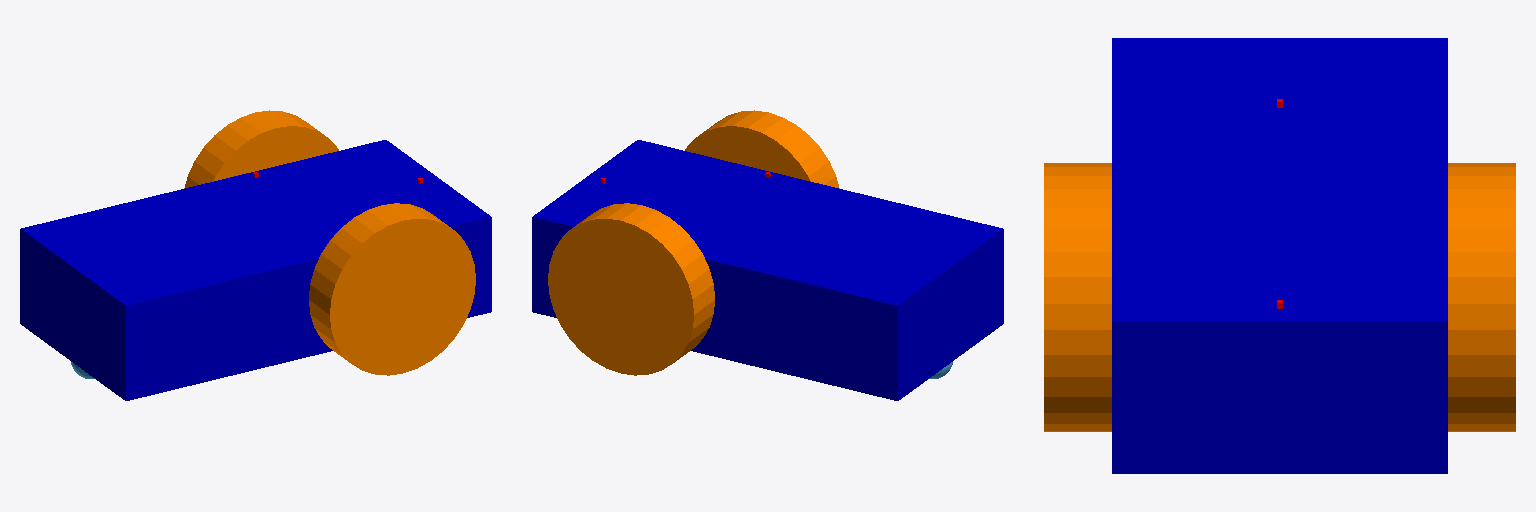
URDF robot description (gopigo3):
<?xml version='1.0'?>
<robot name="gopigo3">

<!-- Materials -->
  <material name="blue">
    <color rgba="0 0 0.8 1"/>
  </material>

  <material name="white">
    <color rgba="1 1 1 1"/>
  </material>

  <material name="red">
    <color rgba="1 0 0 1"/>
  </material>

  <material name="green">
    <color rgba="0 1 0 1"/>
  </material>

  <material name="yellow">
    <color rgba="1 1 0 1"/>
  </material>

  <material name="orange">
    <color rgba="1 0.54 0 1"/>
  </material>
  <!-- Dummy link without inertia is needed -->
  <link name="base_footprint"/>
  <joint name="base_link_joint" type="fixed">
    <origin rpy="0 0 0" xyz="0 0 0.05"/>
    <parent link="base_footprint"/>
    <child link="base_link"/>
  </joint>
<!-- Base Link -->
  <link name="base_link">
    <visual>
      <origin xyz="0 0 0" rpy="0 0 0" />
      <geometry>
          <box size="0.5 0.25 0.125"/>
      </geometry>
      <material name="blue"/>
    </visual>
    <collision>
      <origin xyz="0 0 0" rpy="0 0 0" />
      <geometry>
          <box size="0.5 0.25 0.125"/>
      </geometry>
    </collision>
    <inertial>
      <origin xyz="0 0 0" rpy="0 0 0" />
      <mass value="5"/>
      <inertia ixx="0.13" ixy="0.0" ixz="0.0" iyy="0.21" iyz="0.0" izz="0.13"/>
    </inertial>
    <!-- Caster attachment -->
    <visual name="caster_visual">
      <origin xyz="-0.225 0 -0.0625" rpy="0 0 0" />
      <geometry>
        <sphere radius="0.025" />
      </geometry>
    </visual>
    <collision name="caster_collision">
      <origin xyz="-0.225 0 -0.0625" rpy="0 0 0" />
      <geometry>
        <sphere radius="0.025" />
      </geometry>
    </collision>
    <inertial name="caster_inertia">
      <origin xyz="-0.225 0 -0.0625" rpy="0 0 0" />
      <mass value="0.15"/>
      <inertia ixx="0.0001" ixy="0.0" ixz="0.0" iyy="0.0001" iyz="0.0" izz="0.0001"/>
    </inertial>
  </link>
<!-- Right Wheel -->
  <link name="right_wheel">
    <visual>
      <origin xyz="0 0 0" rpy="1.570795 0 0" />
      <geometry>
          <cylinder length="0.05" radius="0.1" />
      </geometry>
      <material name="orange"/>
    </visual>
    <!-- Right Wheel collision, mass and inertia -->
    <collision>
      <origin xyz="0 0 0" rpy="1.570795 0 0" />
      <geometry>
          <cylinder length="0.05" radius="0.1" />
      </geometry>
    </collision>
    <inertial>
      <origin xyz="0 0 0" rpy="1.570795 0 0" />
      <mass value="0.15"/>
      <inertia ixx="0.01" ixy="0.0" ixz="0.0" iyy="0.005" iyz="0.0" izz="0.005"/>
    </inertial>
  </link>
<!-- Right Wheel JOINT base_link -->
  <joint name="joint_right_wheel" type="continuous">
    <parent link="base_link"/>
    <child link="right_wheel"/>
    <origin xyz="0.1 -0.15 0.0125" rpy="0 0 0" /> 
    <axis xyz="0 1 0" />
  </joint>
<!-- Left Wheel JOINT base_link -->
  <joint name="joint_left_wheel" type="continuous">
    <parent link="base_link"/>
    <child link="left_wheel"/>
    <origin xyz="0.1 0.15 0.0125" rpy="0 0 0" /> 
    <axis xyz="0 1 0"/>
  </joint>
<!-- Left Wheel -->
  <link name="left_wheel">
    <visual>
      <origin xyz="0 0 0" rpy="1.570795 0 0" />
      <geometry>
          <cylinder length="0.05" radius="0.1" />
      </geometry>
      <material name="orange"/>
    </visual>
    <!-- Left Wheel collision, mass and inertia -->
    <collision>
      <origin xyz="0 0 0" rpy="1.570795 0 0" />
      <geometry>
          <cylinder length="0.05" radius="0.1" />
      </geometry>
    </collision>
    <inertial>
      <origin xyz="0 0 0" rpy="1.570795 0 0" />
      <mass value="0.15"/>
      <inertia ixx="0.01" ixy="0.0" ixz="0.0" iyy="0.005" iyz="0.0" izz="0.005"/>
    </inertial>

  </link>
<!-- Distance Sensor -->
  <joint name="distance_sensor_joint" type="fixed">
    <axis xyz="0 1 0" />
    <origin rpy="0 0 0" xyz="0.225 0 0.065" />
    <parent link="base_link"/>
    <child link="distance_sensor"/>
  </joint>
  <link name="distance_sensor">
    <visual>
      <origin xyz="0 0 0" rpy="0 0 0"/>
      <geometry>
        <box size="0.005 0.005 0.005"/>
      </geometry>
      <material name="red"/>
    </visual>
  </link>
<!-- Distance Sensor solid JOINT base_link -->
  <joint name="distance_sensor_solid_joint" type="fixed">
    <axis xyz="0 1 0" />
    <origin xyz="0 0 0" rpy="0 0 0"/>
    <parent link="base_link"/>
    <child link="distance_sensor_solid"/>
  </joint>
<!-- Distance Sensor solid-->
  <link name="distance_sensor_solid">
    <collision>
      <origin xyz="0.225 0 0.0775" rpy="1.570795 0 1.570795" />
      <geometry>
        <box size="0.005 0.005 0.005"/>
      </geometry>
    </collision>

    <visual>
      <origin xyz="0.225 0 0.0755" rpy="1.570795 0 1.570795" />
      <geometry>
        <mesh filename="package://gopigo3_description/meshes/IR_Sensor_Sharp_GP2Y_solid.stl" scale="0.0025 0.0025 0.0025"/>
      </geometry>
      <material name="red"/>
    </visual>

    <inertial>
      <origin xyz="0.225 0 0.0755" rpy="1.570795 0 1.570795" />
      <mass value="1e-5" />
      <origin xyz="0 0 0" rpy="0 0 0"/>
      <inertia ixx="1e-6" ixy="0" ixz="0" iyy="1e-6" iyz="0" izz="1e-6" />
    </inertial>
  </link>
<!-- 2D Camera as a mesh of actual PiCamera -->
  <link name="camera">
    <visual>
      <origin xyz="0 0 0" rpy="0 1.570795 0" />
      <geometry>
        <mesh filename="package://gopigo3_description/meshes/piCamera.stl" scale="0.0025 0.0025 0.0025"/>
      </geometry>
      <material name="yellow"/>
    </visual>
    
    <collision>
      <origin xyz="0 0 0" rpy="0 -1.570795 0" />
      <geometry>
        <box size="0.075 0.075 0.025"/>
      </geometry>
    </collision>

    <inertial>
      <origin xyz="0 0 0" rpy="0 -1.570795 0" />
      <mass value="1e-3" />
      <inertia ixx="1e-6" ixy="0" ixz="0" iyy="1e-6" iyz="0" izz="1e-6" />
    </inertial>
  </link>
<!-- 2D Camera JOINT base_link -->
  <joint name="joint_camera" type="fixed">
    <axis xyz="0 0 1" />
    <origin xyz="0.25 0 0.025" rpy="0 0 0"/>
    <parent link="base_link"/>
    <child link="camera"/>
  </joint>

<!-- Laser Distance Sensor -->
  <link name="base_scan">
    <visual>
      <origin xyz="0 0 0" rpy="0 0 0" />
      <geometry>
        <box size="0.005 0.005 0.005"/>
      </geometry>
      <material name="red"/>
    </visual> 
  </link>
<!-- Laser Distance Sensor JOINT base_link -->
  <joint name="scan_joint" type="fixed">
    <parent link="base_link"/>
    <child link="base_scan"/>
    <origin xyz="0 0 0.125" rpy="0 0 3.14"/>
  </joint>
<!-- base_scan_solid JOINT base_link -->
  <joint name="scan_solid_joint" type="fixed">
    <parent link="base_scan"/>
    <child link="base_scan_solid"/>
    <origin xyz="0 0 0" rpy="0 0 0"/>
  </joint>
<!-- base_scan_solid -->
  <link name="base_scan_solid">
    <visual name="sensor_body">
      <origin xyz="0 0 0" rpy="0 0 0" />
      <geometry>
        <mesh filename="package://gopigo3_description/meshes/X4.stl" scale="0.002 0.002 0.002"/> 
      </geometry>
      <material name="yellow"/>
    </visual>

    <collision>
      <origin xyz="0 0 0" rpy="0 0 0"/>
      <geometry>
        <cylinder length="0.01575" radius="0.0275"/>
      </geometry>
    </collision>

    <inertial>
      <origin xyz="0 0 0" rpy="0 0 0"/>
      <mass value="0.057" />
      <inertia ixx="0.001" ixy="0.0" ixz="0.0"
               iyy="0.001" iyz="0.0"
               izz="0.001" />
    </inertial>
  </link>

<!-- GAZEBO MATERIAL TAGS (colors for sensors under <sensor> tags) -->
  <gazebo reference="base_link">
    <material>Gazebo/Blue</material>
    <pose>0 0 1.5 0 0 0</pose>
  </gazebo>

  <gazebo reference="right_wheel">
    <material>Gazebo/White</material>
  </gazebo>

  <gazebo reference="left_wheel">
    <material>Gazebo/White</material>
  </gazebo>

<!-- Differential Drive Controller -->
  <!-- https://answers.ros.org/question/236122/diffdrive-odometry-source-is-missing -->
  <gazebo>
    <plugin filename="libgazebo_ros_diff_drive.so" name="differential_drive_controller">
      <alwaysOn>true</alwaysOn>
      <updateRate>20</updateRate>
      <leftJoint>joint_left_wheel</leftJoint>
      <rightJoint>joint_right_wheel</rightJoint>
      <wheelSeparation>0.6</wheelSeparation>
      <wheelDiameter>0.3</wheelDiameter>
      <torque>0.1</torque>
      <commandTopic>cmd_vel</commandTopic>
      <odometryTopic>odom</odometryTopic>
      <odometryFrame>odom</odometryFrame>
      <robotBaseFrame>base_link</robotBaseFrame>
      <legacyMode>false</legacyMode>
      <publishTf>1</publishTf>
      <rosDebugLevel>na</rosDebugLevel>
      <publishWheelTF>false</publishWheelTF>
      <publishOdomTF>true</publishOdomTF>
      <publishWheelJointState>false</publishWheelJointState>
      <wheelAcceleration>0</wheelAcceleration>
      <wheelTorque>5</wheelTorque>
    </plugin>
  </gazebo>
<!-- Distance Sensor controller -->
  <gazebo reference="distance_sensor">        
    <sensor type="ray" name="laser_distance">
      <pose>0 0 0 0 0 0</pose>
      <visualize>true</visualize>
      <update_rate>10</update_rate>
      <ray>
         <scan>
            <horizontal>
               <samples>10</samples>
               <resolution>1</resolution> 
               <min_angle>-0.01</min_angle>
               <max_angle>0.01</max_angle>
            </horizontal>
            <vertical>
               <samples>10</samples>
               <resolution>1</resolution> 
               <min_angle>-0.01</min_angle>
               <max_angle>0.01</max_angle> 
            </vertical>
         </scan>
         <range>
            <min>0.01</min>
            <max>3</max>
            <resolution>0.01</resolution>
         </range>
      </ray>
      <plugin filename="libgazebo_ros_range.so" name="gazebo_ros_ir">
         <gaussianNoise>0.005</gaussianNoise>
         <alwaysOn>true</alwaysOn>
         <updateRate>0.0</updateRate>
         <topicName>gopigo/distance</topicName>
         <frameName>distance_sensor</frameName>
         <radiation>INFRARED</radiation>
         <fov>0.02</fov>
      </plugin>
    </sensor>  
   </gazebo>

<!-- 2D Camera controller -->
  <gazebo reference="camera">
    <sensor type="camera" name="camera1">
      <update_rate>30.0</update_rate>
      <camera name="front">
        <horizontal_fov>1.3962634</horizontal_fov>
        <image>
          <width>800</width>
          <height>800</height>
          <format>R8G8B8</format>
        </image>
        <clip>
          <near>0.02</near>
          <far>300</far>
        </clip>
      </camera>
      <plugin name="camera_controller" filename="libgazebo_ros_camera.so">
        <alwaysOn>true</alwaysOn>
        <updateRate>0.0</updateRate>
        <cameraName>gopigo/camera1</cameraName>
        <imageTopicName>image_raw</imageTopicName>
        <cameraInfoTopicName>camera_info</cameraInfoTopicName>
        <frameName>camera</frameName>
        <hackBaseline>0.07</hackBaseline>
        <distortionK1>0.0</distortionK1>
        <distortionK2>0.0</distortionK2>
        <distortionK3>0.0</distortionK3>
        <distortionT1>0.0</distortionT1>
        <distortionT2>0.0</distortionT2>
      </plugin>
    </sensor>
  </gazebo>

<!-- Laser Distance Sensor YDLIDAR X4 controller-->
  <gazebo reference="base_scan">
    <sensor type="ray" name="lds_lfcd_sensor">
      <pose>0 0 0 3.14 0 0</pose>
      <visualize>false</visualize>
      <update_rate>5</update_rate>
      <ray>
        <scan>
          <horizontal>
            <samples>720</samples>
            <resolution>0.5</resolution>
            <min_angle>0.0</min_angle>
            <max_angle>6.28319</max_angle>
          </horizontal>
        </scan>
        <range>
          <min>0.12</min>
          <max>10</max>
          <resolution>0.015</resolution>
        </range>
        <noise>
          <type>gaussian</type>
          <!-- Noise parameters based on published spec for YDLIDAR X4
               is 1.5% at half range 4m (= 60mm, "+-160mm" accuracy at max. range 8m).
               A mean of 0.0m and stddev of 0.020m will put 99.7% of samples
               within 0.16m of the true reading. -->
          <mean>0.0</mean>
          <stddev>0.02</stddev>
        </noise>
      </ray>
      <plugin name="gazebo_ros_lds_lfcd_controller" filename="libgazebo_ros_laser.so">
        <!-- topicName>/gopigo/scan</topicName -->
        <topicName>scan</topicName>
        <frameName>base_scan</frameName>
      </plugin>
    </sensor>
  </gazebo>

</robot>

--- What the picture shows (computed from the rendered views, not written in the file) ---
The picture shows the robot from 3 angles, left to right: view 1: azimuth 30°, elevation 25°; view 2: azimuth 150°, elevation 25°; view 3: azimuth 270°, elevation 25°; orthographic projection.
Model gopigo3 with 9 links and 8 joints (2 continuous, 6 fixed), rooted at base_footprint, posed all joints at 0.
Links seen in each view (by area): view 1: base_link, right_wheel, left_wheel; view 2: base_link, left_wheel, right_wheel; view 3: base_link, right_wheel, left_wheel.
Link boxes in pixels (box(x1,y1,x2,y2)): base_link: box(20, 140, 491, 400); right_wheel: box(309, 203, 475, 375); left_wheel: box(184, 110, 338, 188); base_link: box(532, 140, 1003, 400); left_wheel: box(548, 203, 714, 375); right_wheel: box(685, 110, 839, 188); base_link: box(1112, 38, 1447, 473); right_wheel: box(1044, 163, 1111, 431); left_wheel: box(1448, 163, 1515, 431).
Bounding box of the posed robot: 0.5 × 0.35 × 0.215 m (x, y, z).
0 mesh visuals loaded from 3 distinct referenced files (none loaded); not drawn: 3 (reference not matched to a file when rendering).
